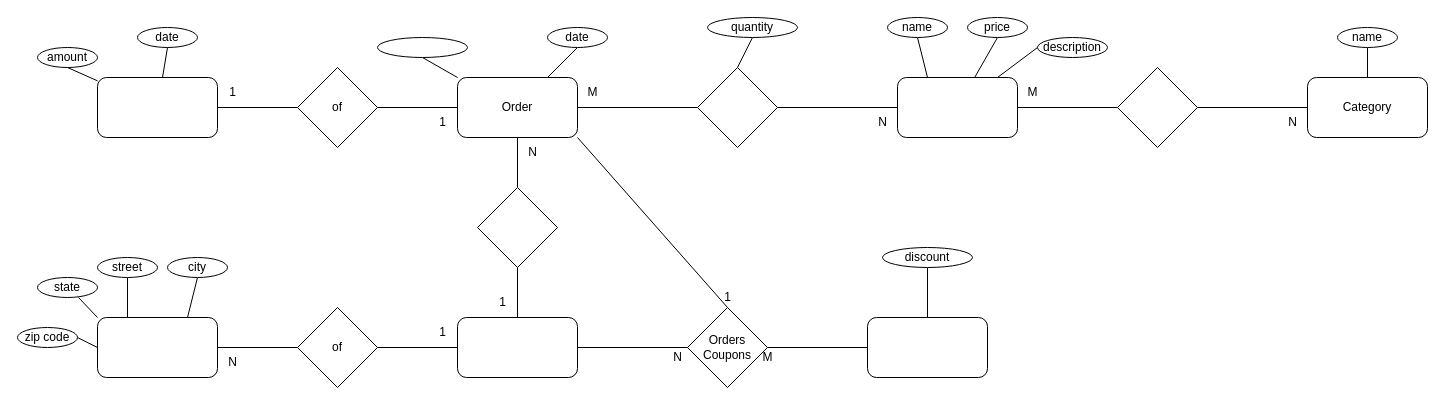
Image size: 1445x405. Some labels were removed from this diagram. The centre of each missing label's shape, as x and y in pixels:
"belongs_to" goes at (x=1157, y=107).
"Coupon" goes at (x=927, y=347).
"Customer" goes at (x=517, y=347).
"Delivery Adderss" goes at (x=157, y=347).
"Made_By" goes at (x=517, y=227).
"Menu Item" goes at (x=957, y=107).
"Order_Item" goes at (x=737, y=107).
"Payment" goes at (x=157, y=107).
"total_amount" goes at (x=422, y=47).
